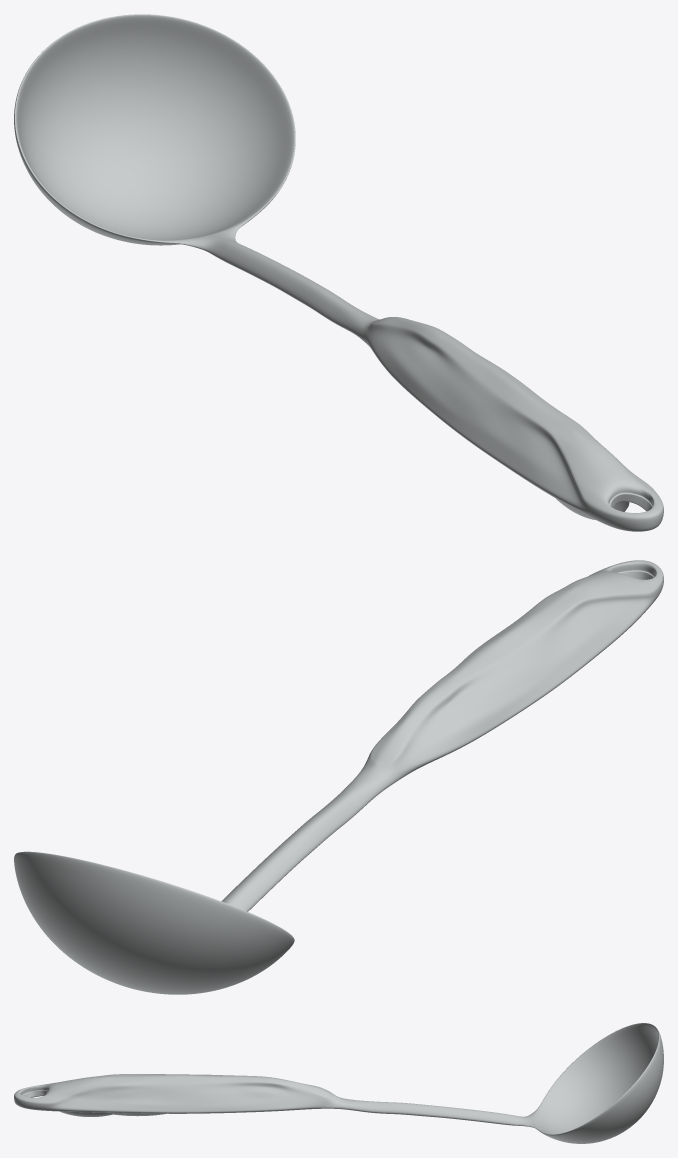
Rendered from spoon_2.glb.
3 renders of one model, top to bottom at view 1: azimuth 30°, elevation 25°; view 2: azimuth 150°, elevation 25°; view 3: azimuth 270°, elevation 25°, orthographic. The views are drawn at different scales.
Visible parts, largest first — view 1: f109c73fa586439b8fd0032dc8f01c44; view 2: f109c73fa586439b8fd0032dc8f01c44; view 3: f109c73fa586439b8fd0032dc8f01c44.
Boxes of the visible parts, x1,y1,x2,y2 form: f109c73fa586439b8fd0032dc8f01c44: (14,14,663,531); f109c73fa586439b8fd0032dc8f01c44: (14,560,663,994); f109c73fa586439b8fd0032dc8f01c44: (14,1023,663,1143).
Size of the model in its own units: 0.273 by 0.1642 by 1.
Materials: 1 (1 with a texture image).
